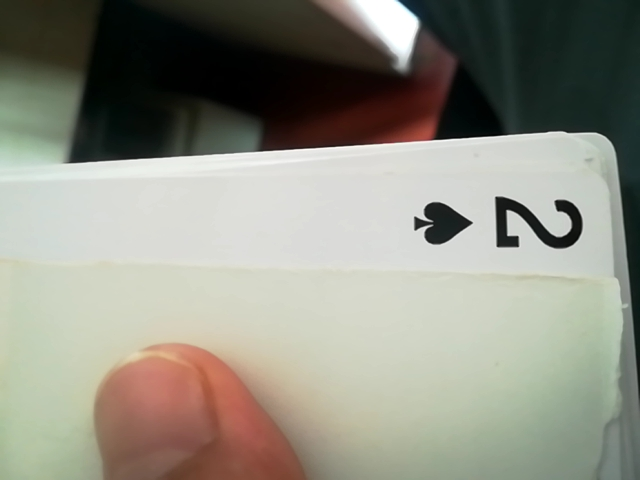ht 2: (392, 164, 631, 288)
